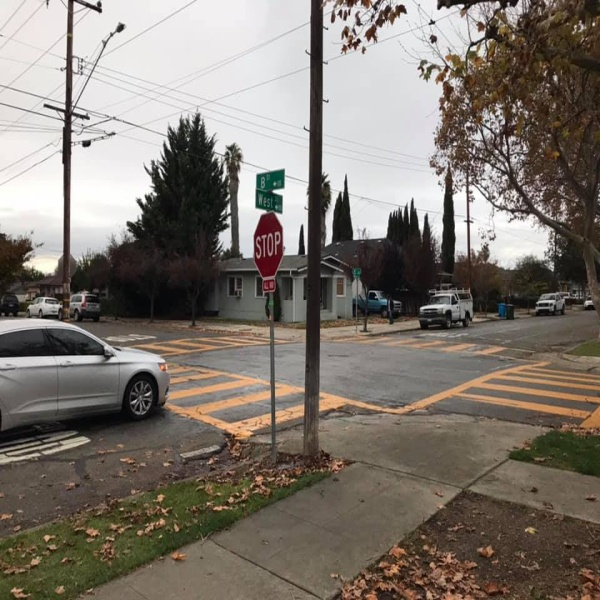stop: (252, 248, 357, 317)
